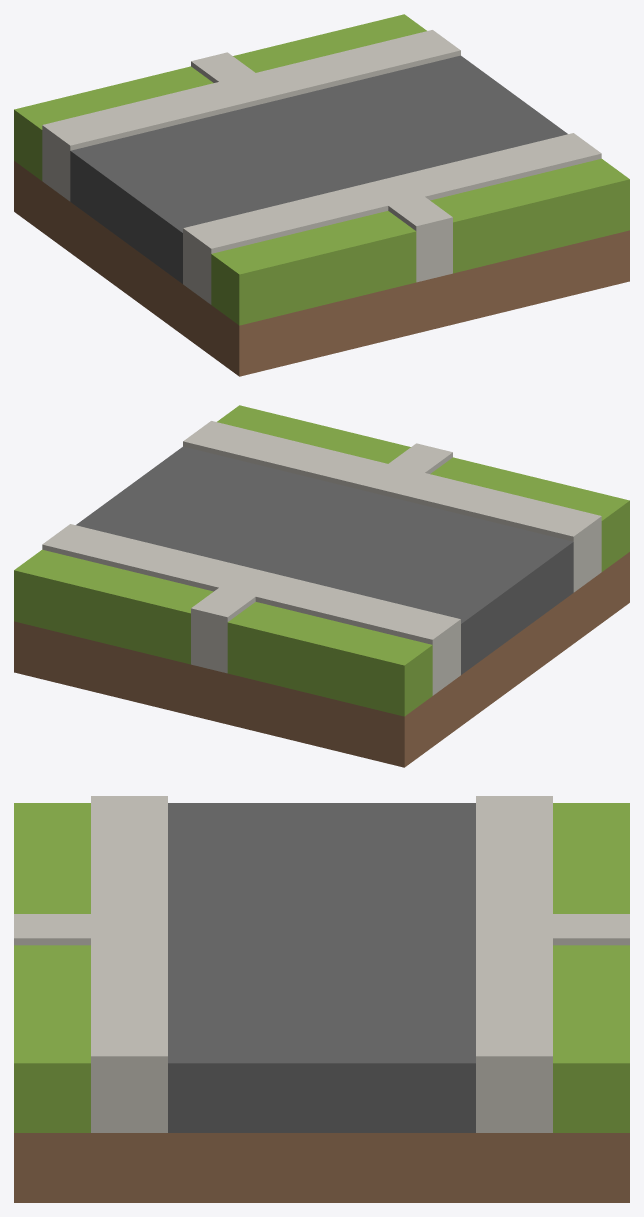
Rendered from road-straight-house-2-low.glb.
3 views of the same model, one above another, from view 1: azimuth 30°, elevation 25°; view 2: azimuth 150°, elevation 25°; view 3: azimuth 270°, elevation 25° (orthographic). The views are drawn at different scales.
Parts seen in each view (by area): view 1: road-straight-house-2-low_Cube.011; view 2: road-straight-house-2-low_Cube.011; view 3: road-straight-house-2-low_Cube.011.
Boxes of the visible parts, box(x1,y1,x2,y2) form: road-straight-house-2-low_Cube.011: box(14, 14, 629, 376); road-straight-house-2-low_Cube.011: box(14, 405, 629, 767); road-straight-house-2-low_Cube.011: box(14, 796, 629, 1202).
Size of the model in its own units: 8 by 2.1 by 8.
1 material, 1 textured.
